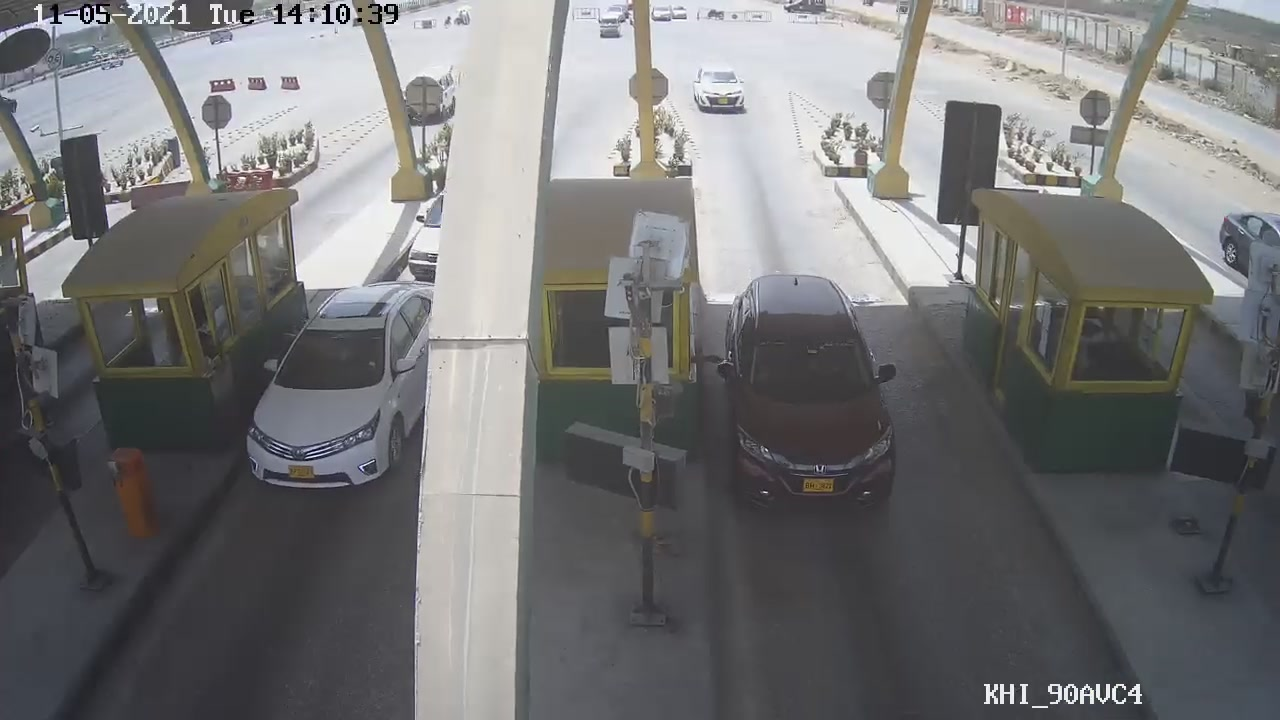F1: (714, 265, 905, 518)
